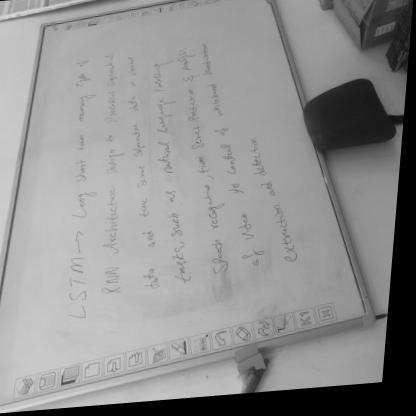Handwritten text: (180, 38, 279, 279), (165, 44, 245, 287), (138, 51, 205, 296), (110, 50, 170, 302), (57, 54, 101, 325), (91, 44, 134, 303), (236, 130, 311, 272)
